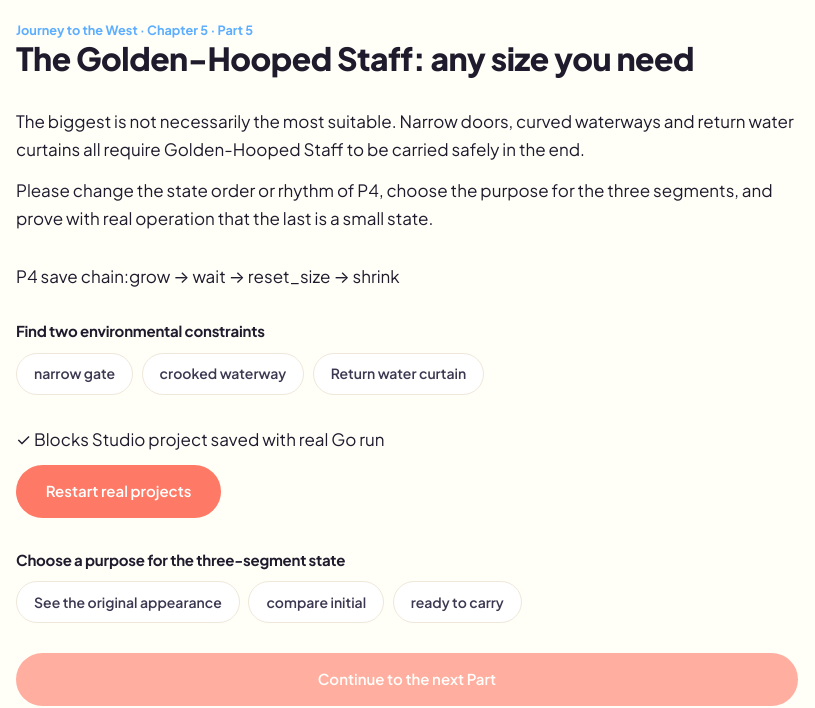
Test: JourneyWestC5PartsPage › reloads P4 evidence and requires a portable P5 choice plus environment meaning
Expected: the text with test id "jtw-c5p5-prior" reads "P4 save chain:grow → wait → reset_size → shrink", [16,265,400,287]
Click the button "narrow gate" at (75, 374), box [16,353,133,395]
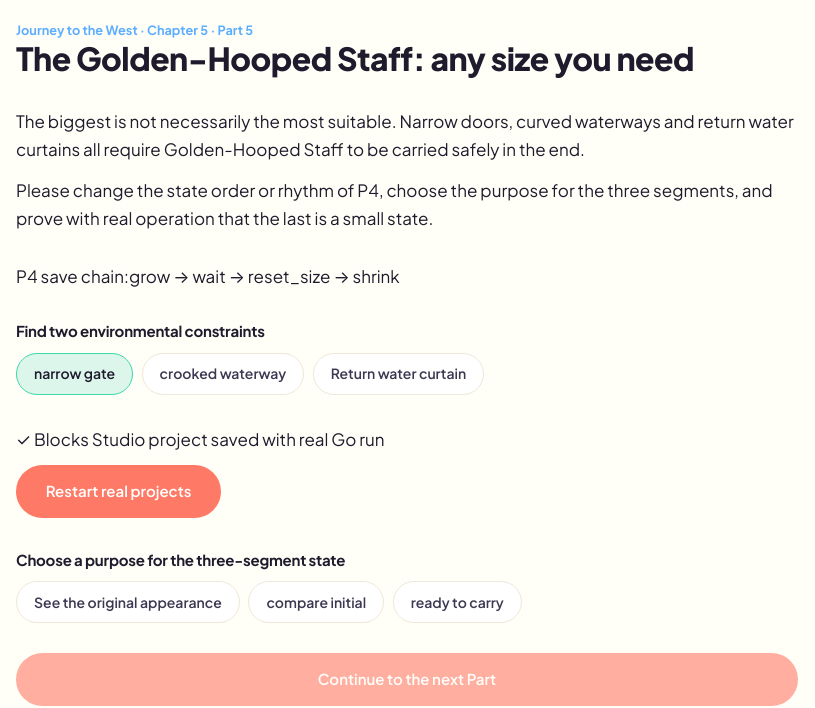
Click the button "crooked waterway" at (223, 374), box [142,353,304,395]
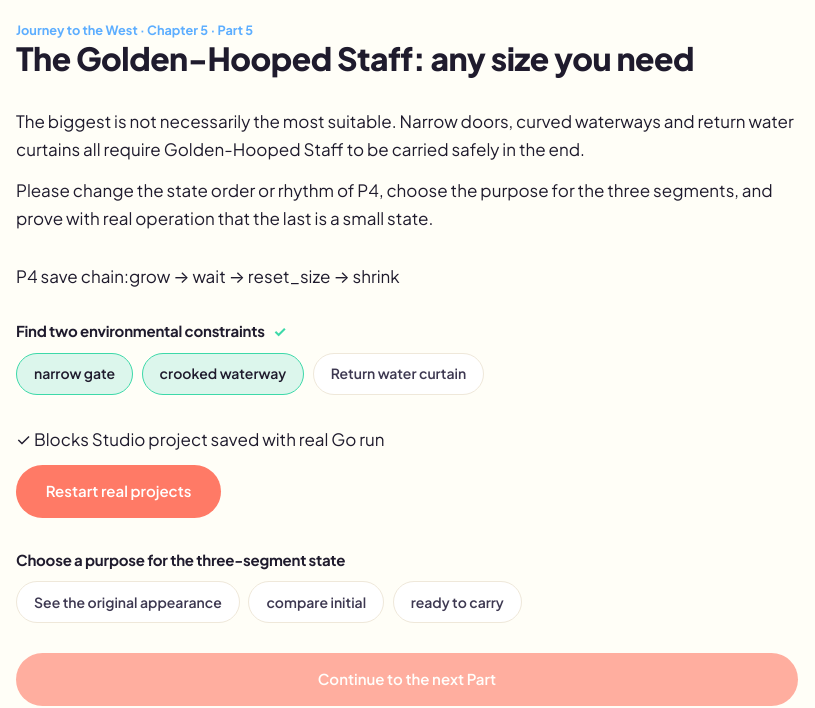
Click the button "See the original appearance" at (128, 602), box [16,581,240,623]
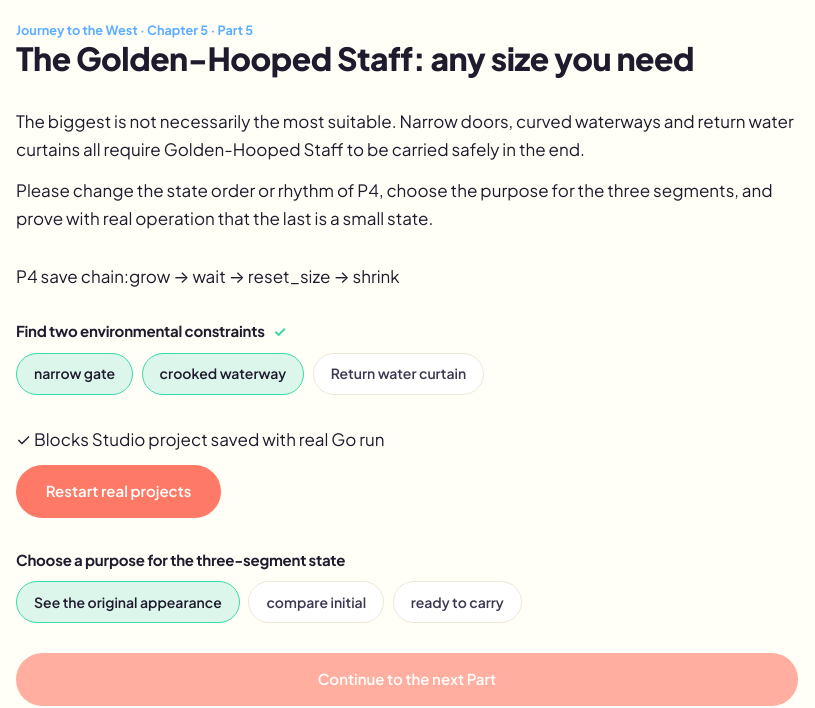
Click the button "compare initial" at (316, 602), box [248,581,384,623]
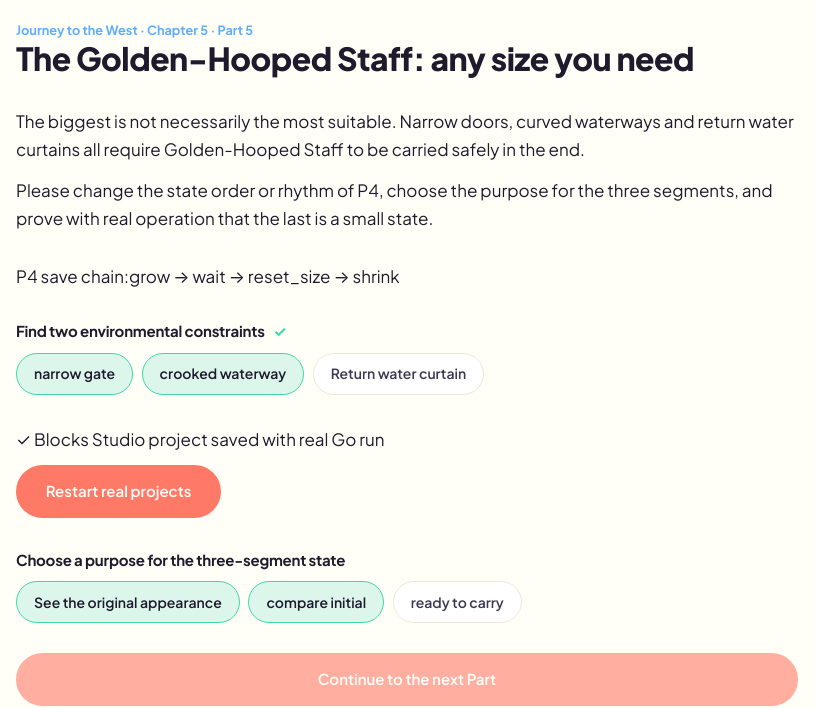
Click the button "ready to carry" at (457, 602), box [393,581,522,623]
(page scrolled)
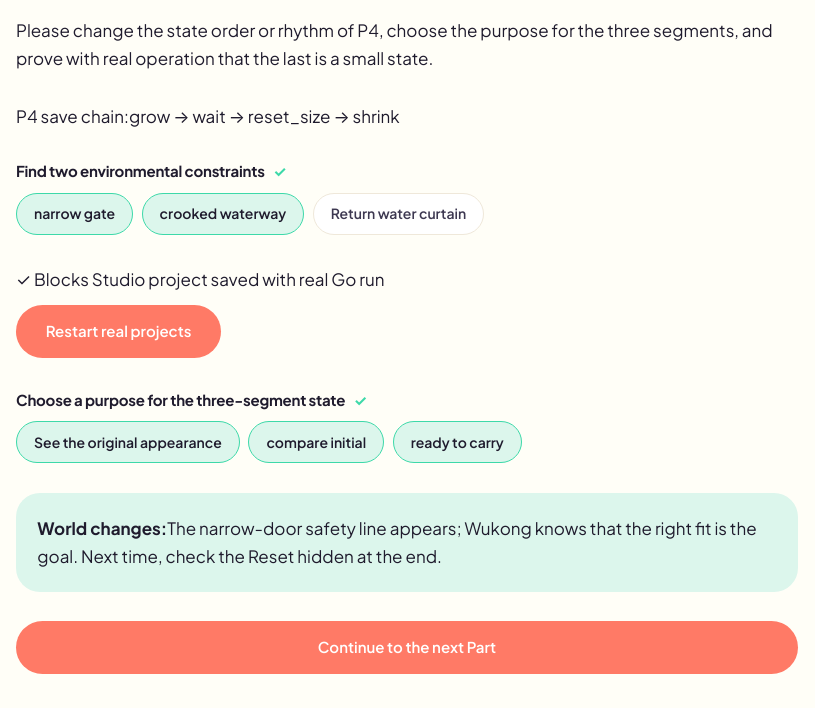
Expected: the button with test id "jtw-c5-complete" is enabled, [16,621,798,674]
Expected: the element with test id "jtw-c5-resolved" shows "the right fit is the goal", [37,517,757,567]
